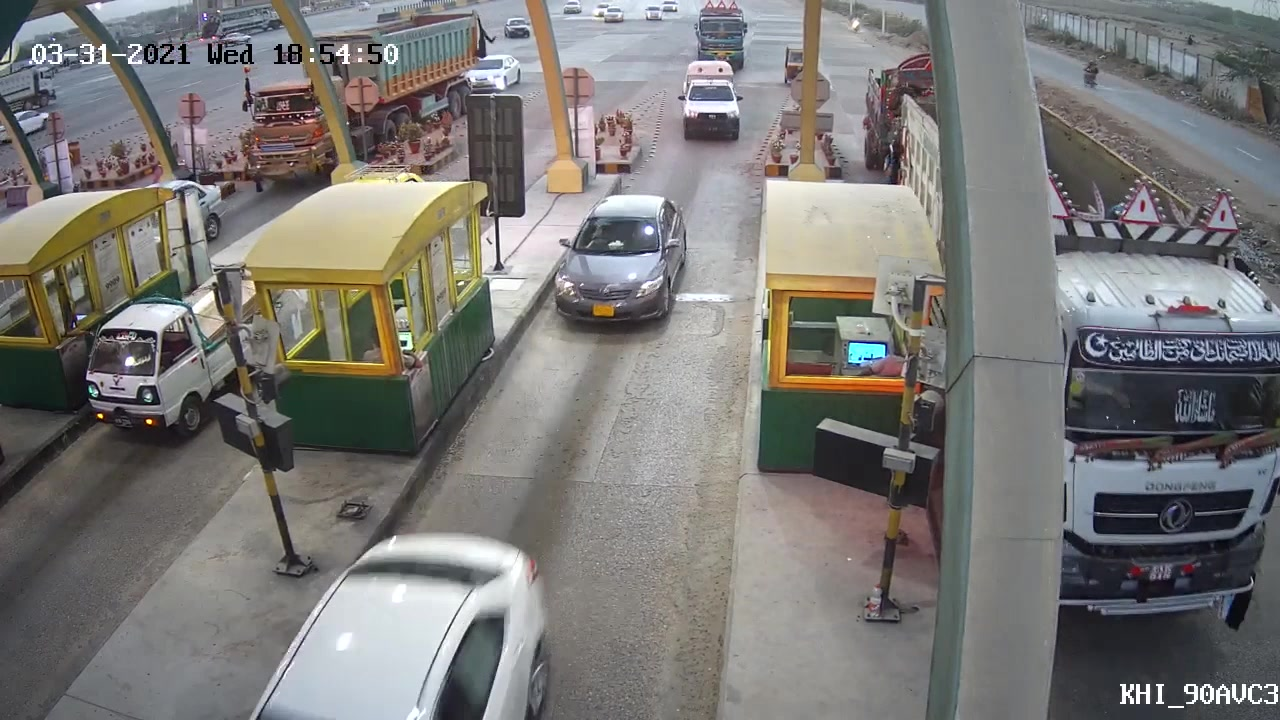F1: (552, 188, 691, 329)
